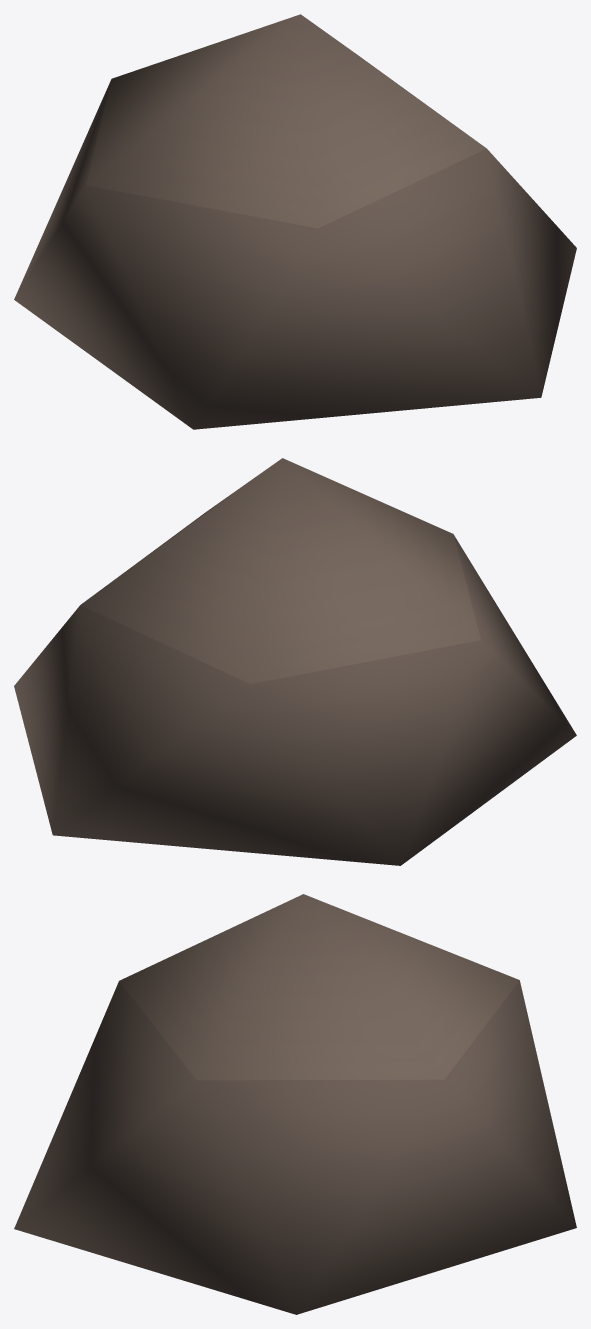
Rendered from trash_B.glb.
The picture shows the model from 3 angles, top to bottom: view 1: azimuth 30°, elevation 25°; view 2: azimuth 150°, elevation 25°; view 3: azimuth 270°, elevation 25°; orthographic projection. The views are drawn at different scales.
Visible parts, largest first — view 1: trash_B; view 2: trash_B; view 3: trash_B.
Part boxes in pixels (x1,y1,x2,y2): trash_B: [14, 14, 576, 429]; trash_B: [14, 458, 576, 865]; trash_B: [14, 894, 576, 1314].
Bounding box in the file's own units: 0.0681 × 0.0404 × 0.0708.
Materials: 1 (1 with a texture image).
